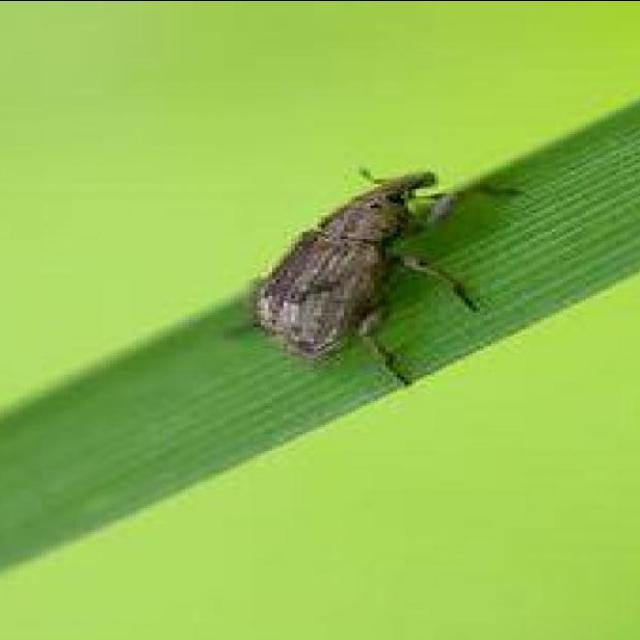ricebug: (225, 168, 481, 384)
